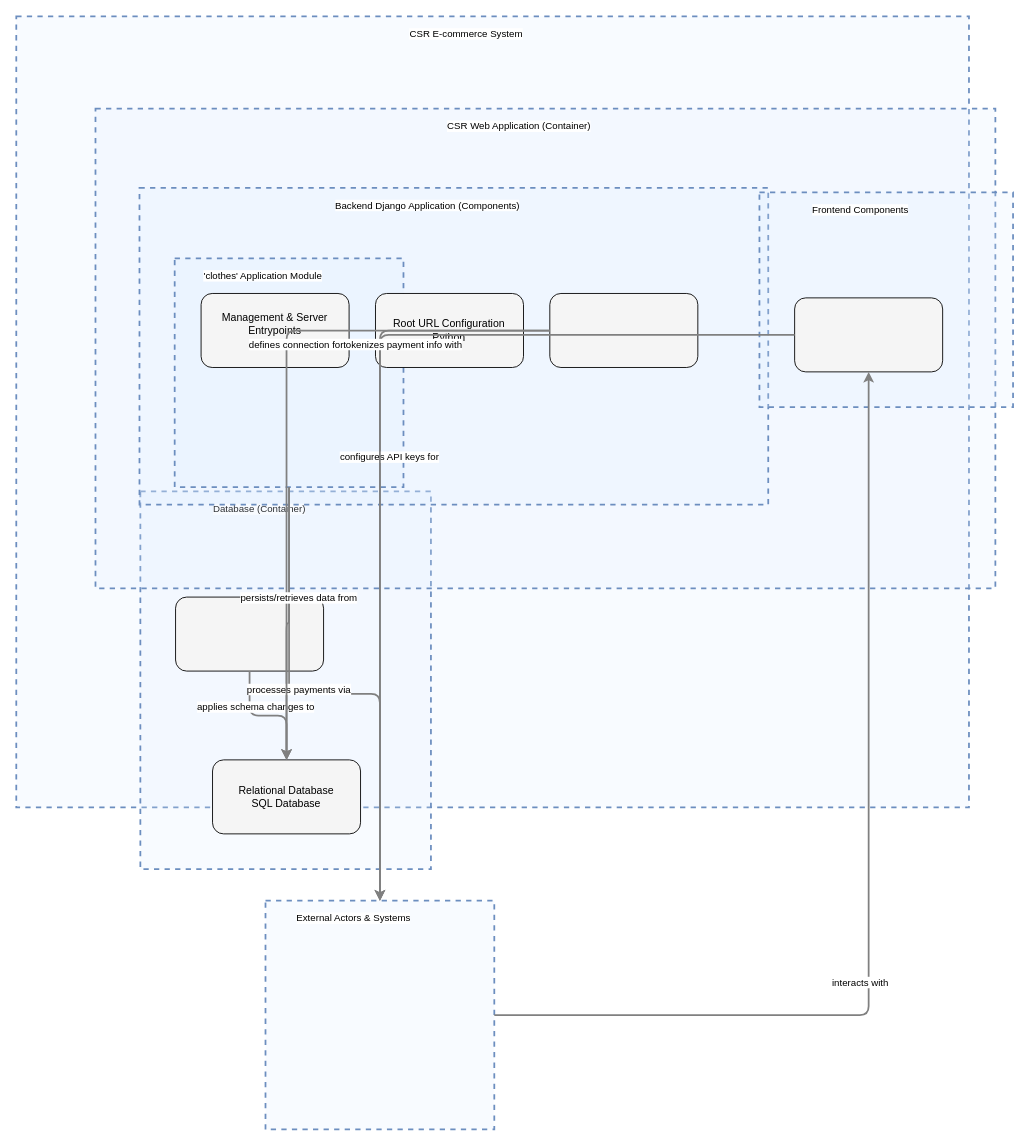
Some shapes in this 1029 by 1145 pixel diagram are drawn without their labels. The centre of each missing label's shape, as x and y in pixels:
"Database Migrations Django Migrations" belongs at point (249, 633).
"Project Configuration Python" belongs at point (623, 330).
"Static Web Assets HTML, CSS, JavaScript" belongs at point (868, 334).
